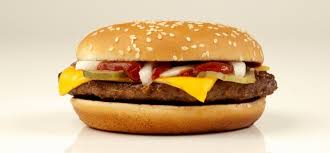hamburger: (50, 17, 283, 137)
